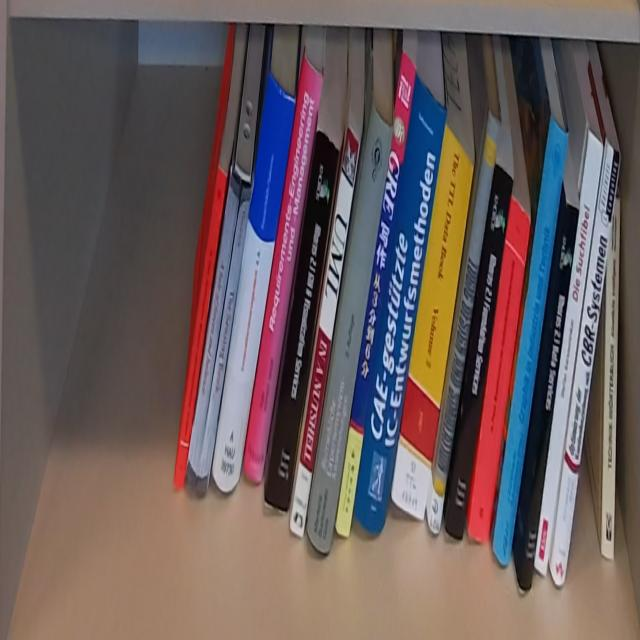Book Spine: (355, 82, 446, 533), (334, 50, 417, 539), (304, 103, 393, 551), (241, 54, 327, 486), (211, 68, 294, 497), (494, 113, 568, 569), (391, 123, 473, 529), (426, 109, 502, 540), (534, 125, 605, 578), (550, 141, 622, 587), (263, 133, 341, 516), (291, 129, 360, 541), (447, 158, 515, 541), (518, 198, 582, 596), (467, 202, 532, 546), (196, 179, 252, 498), (186, 172, 241, 488), (175, 163, 227, 487), (600, 193, 622, 562)
